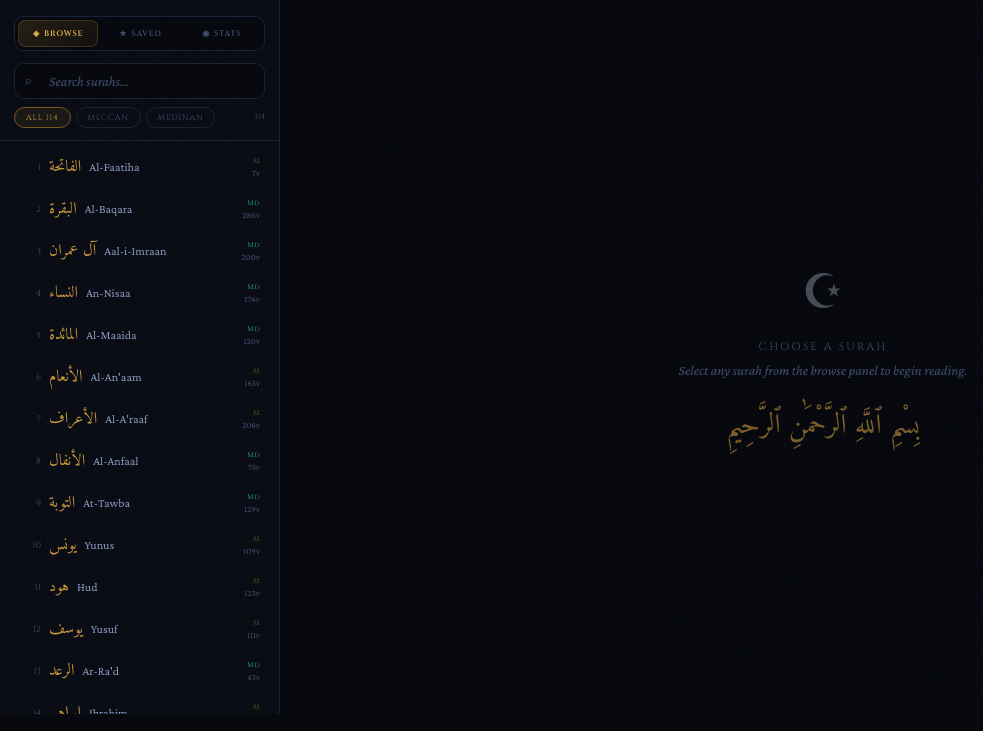
QuranReader — browse, search, filter › Meccan filter count = 86
Click the button with class "filter-chip" showing "Meccan".
click(108, 118)  # box [76,107,141,128]
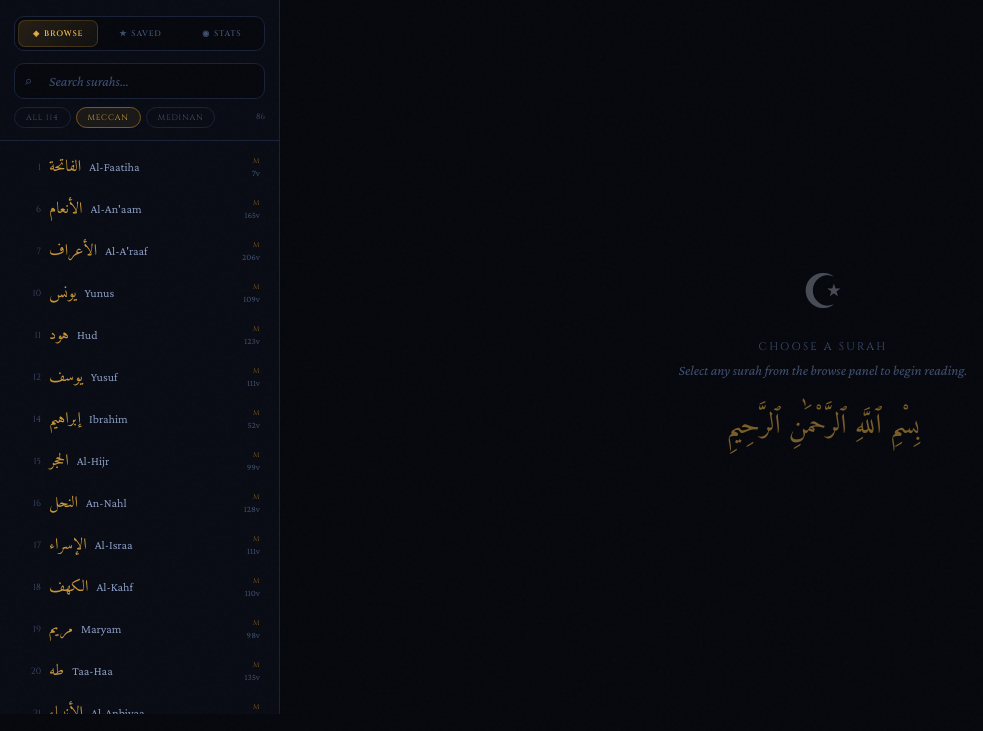
Expected: the text with class "filter-count" reads "86", [256,111,265,122]
